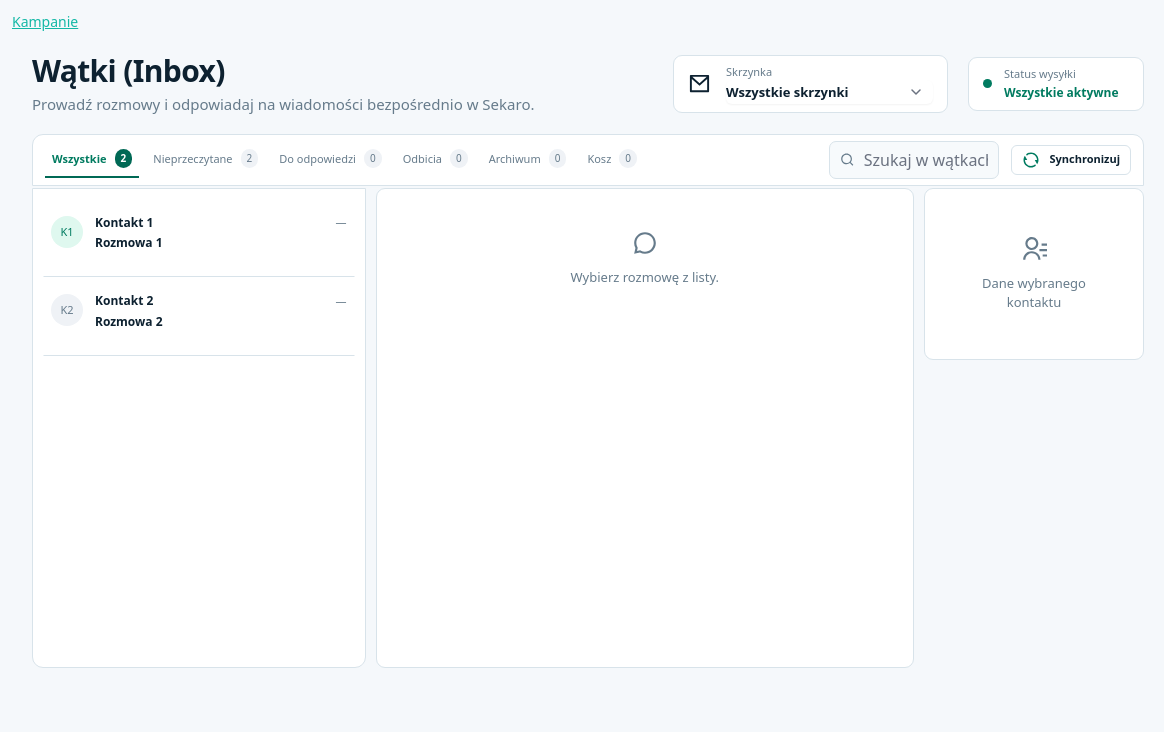
Test: refreshes unread totals after marking a thread read
Expected: the button "Nieprzeczytane 2" is shown, 146,141 -> 265,178
Click the button "K1 Kontakt 1 — Rozmowa 1" at point(67, 232), box 43,198 -> 355,277
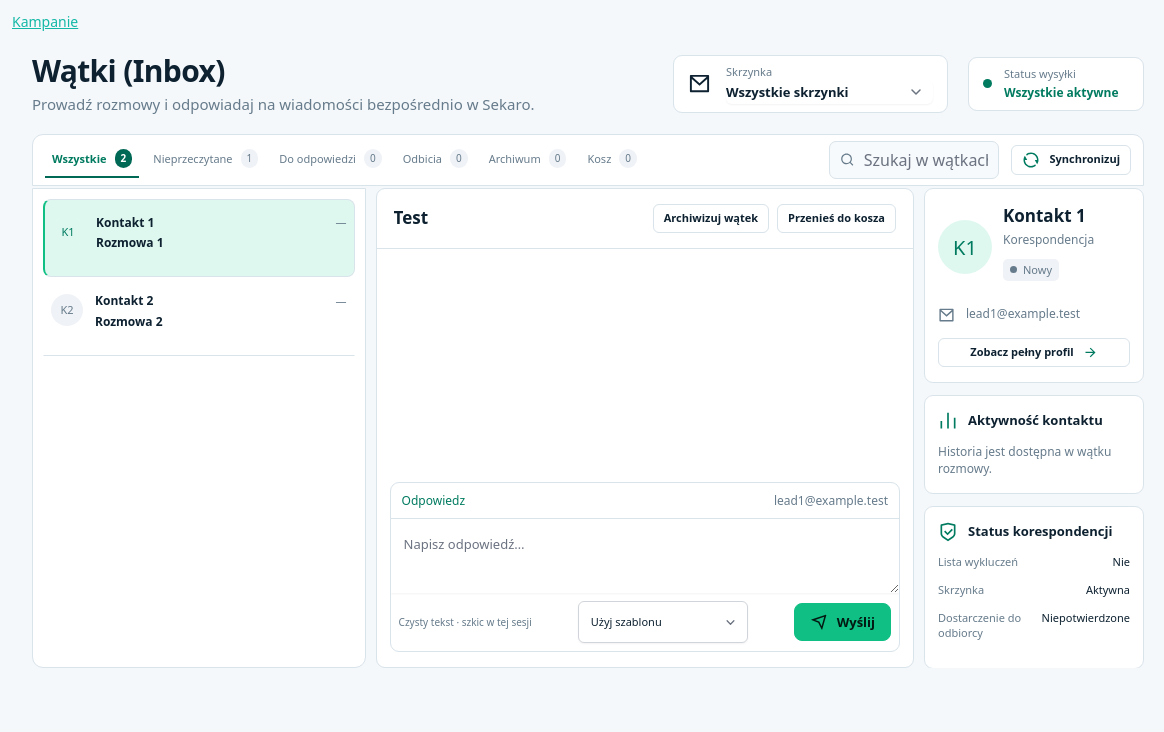
Expected: the button "Nieprzeczytane 1" is shown, 146,141 -> 265,178
